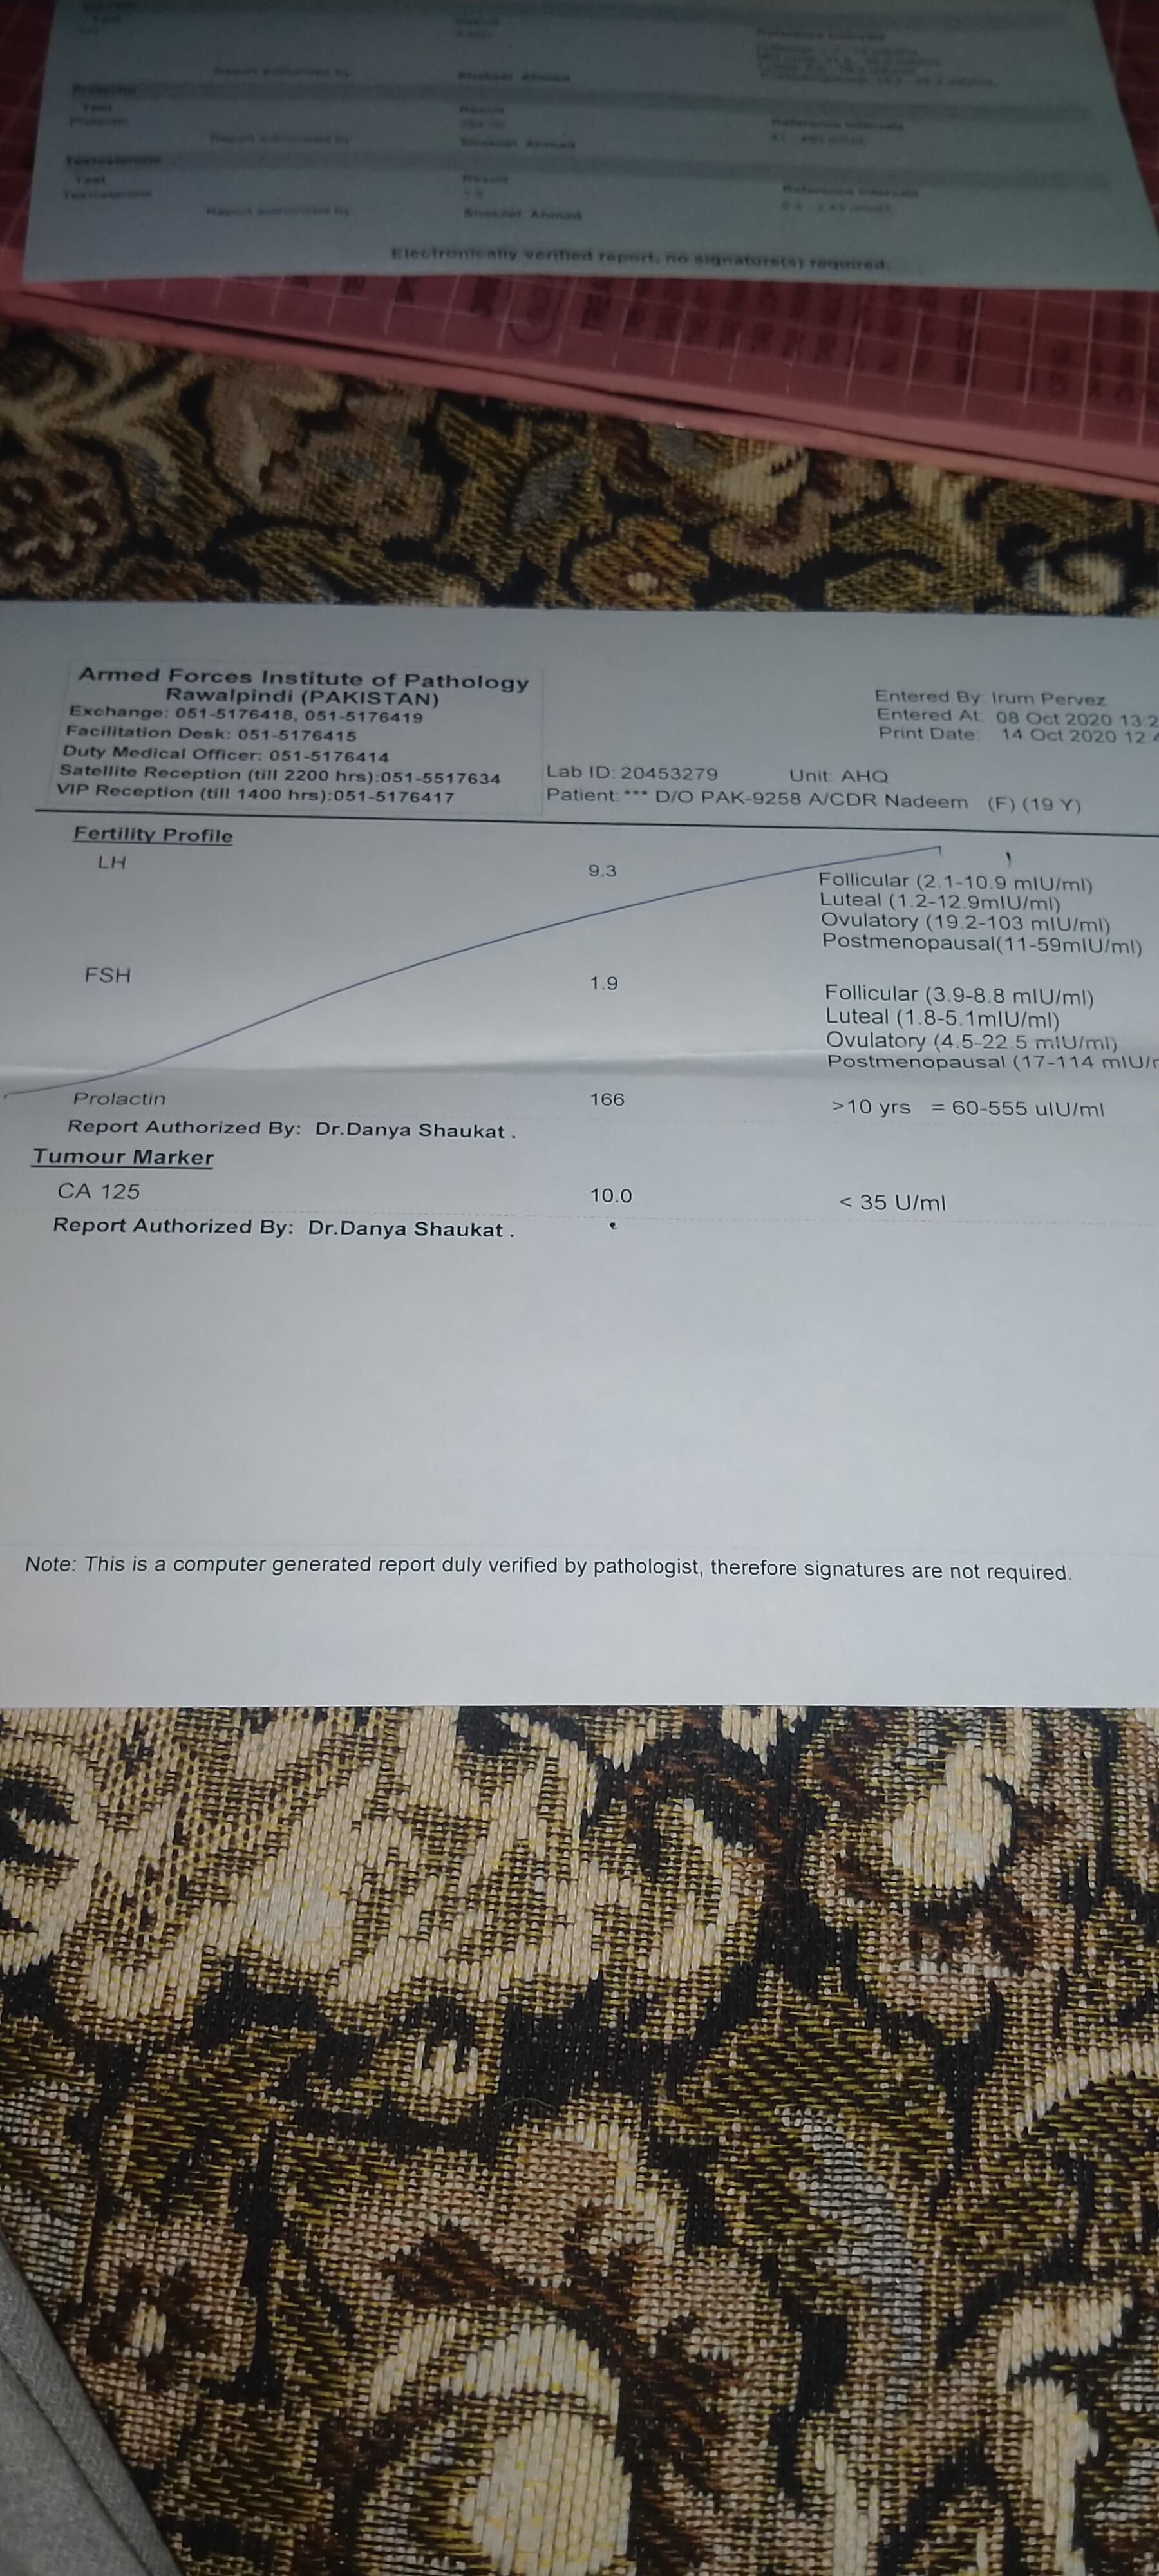report: (25, 808, 1159, 1281)
